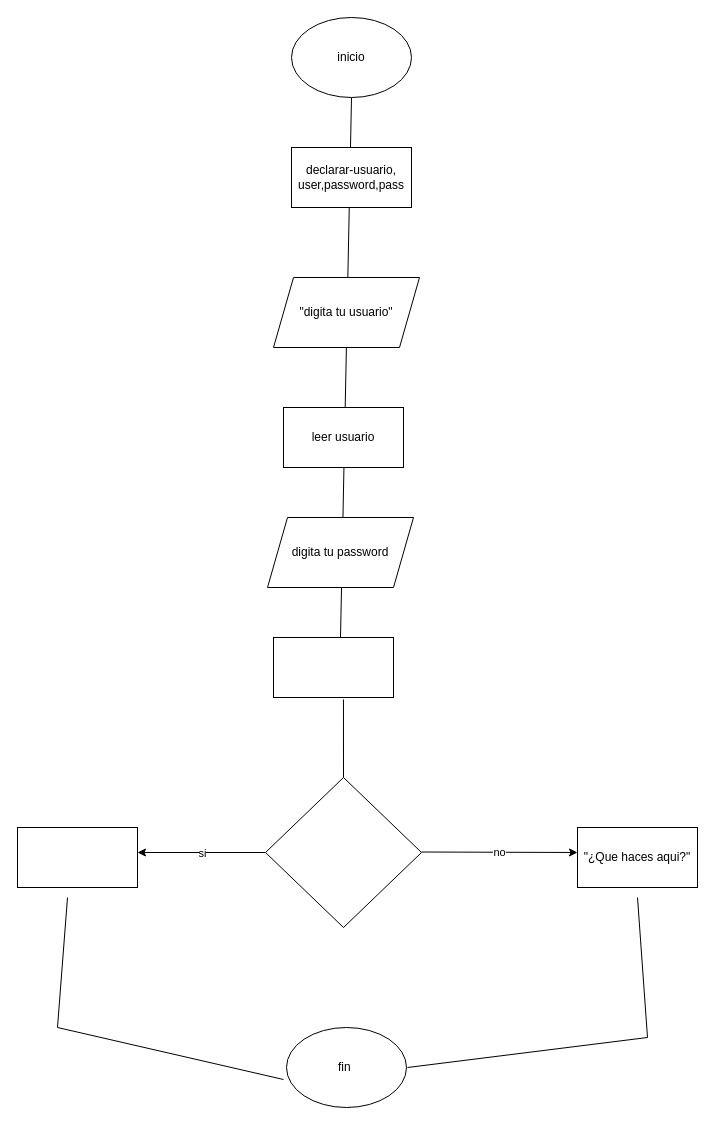
Some shapes in this 715 by 1125 pixel diagram are drawn without their labels. The box of each missing label's shape, as (x1, y1, x2, y2) in pixels:
"bienvenido": (16, 826, 138, 888)
lleer password: (272, 636, 394, 698)
si usuario == user and passward == pass: (264, 776, 422, 928)
